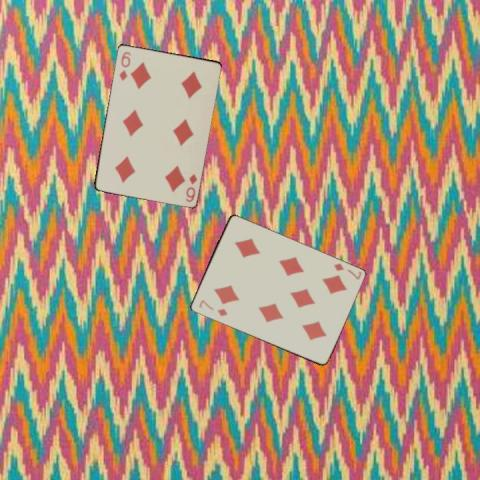6d: (116, 48, 132, 82), (183, 171, 198, 203)
7d: (195, 297, 229, 317), (330, 260, 362, 281)
